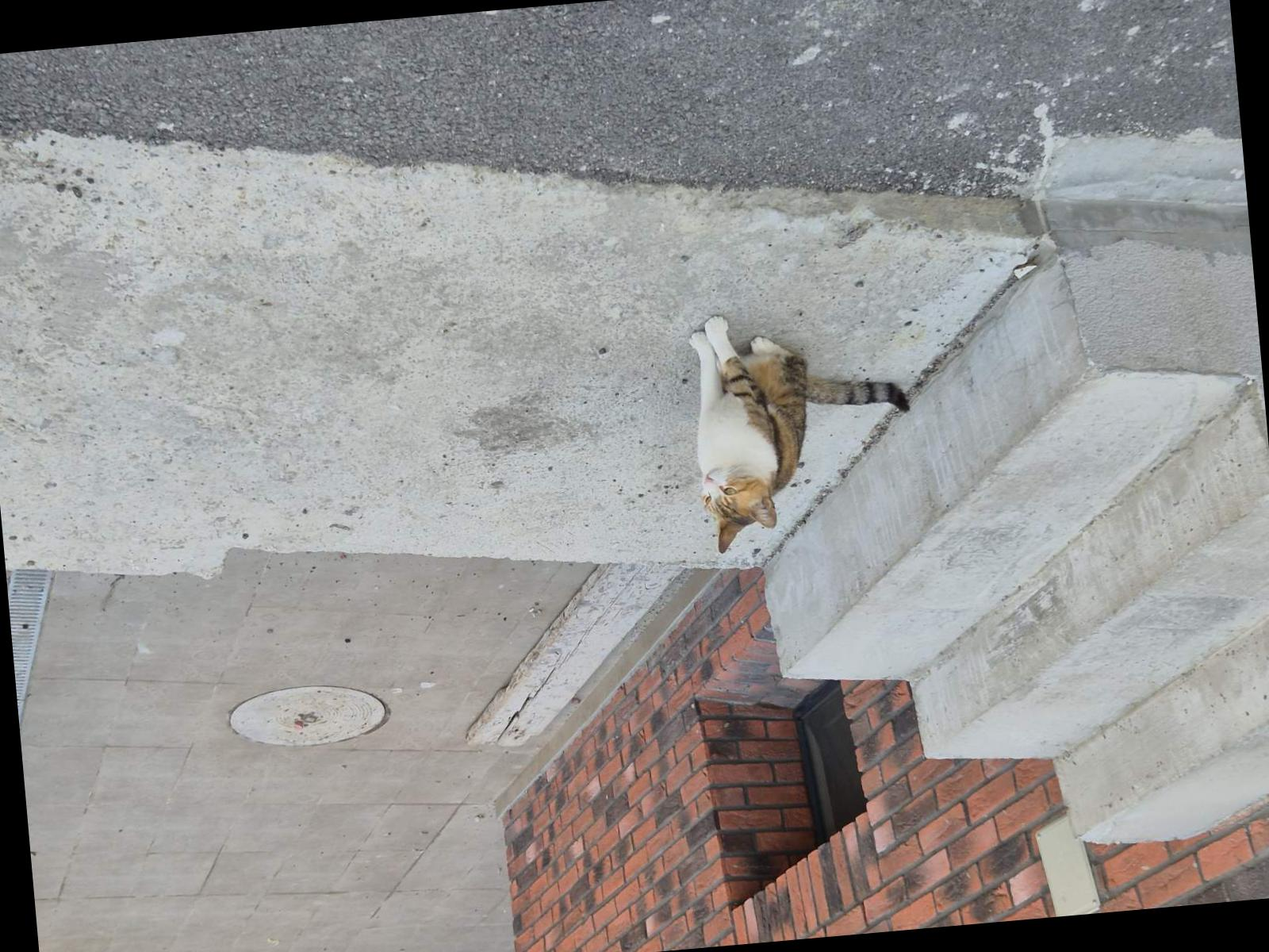macka: (684, 298, 922, 555)
